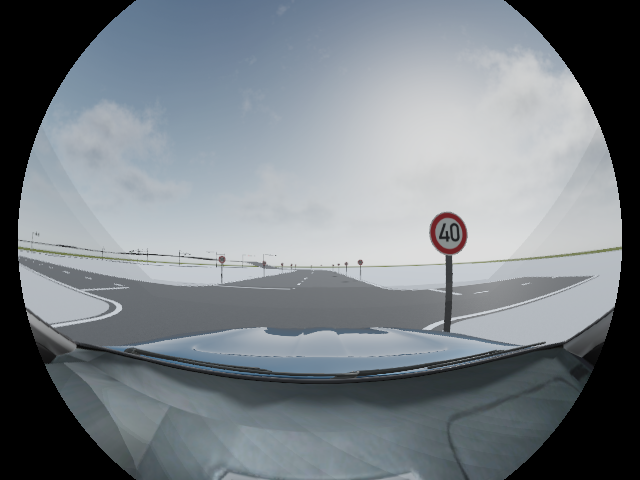Speed Limit 40: (429, 211, 467, 254)
